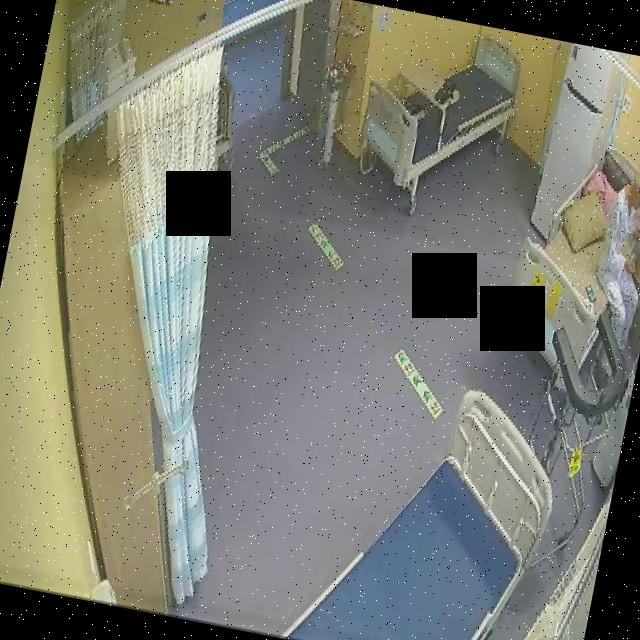bed: (284, 359, 574, 640), (496, 139, 640, 384), (352, 14, 526, 202)
patient: (583, 168, 640, 353)
sit: (585, 168, 640, 352)
